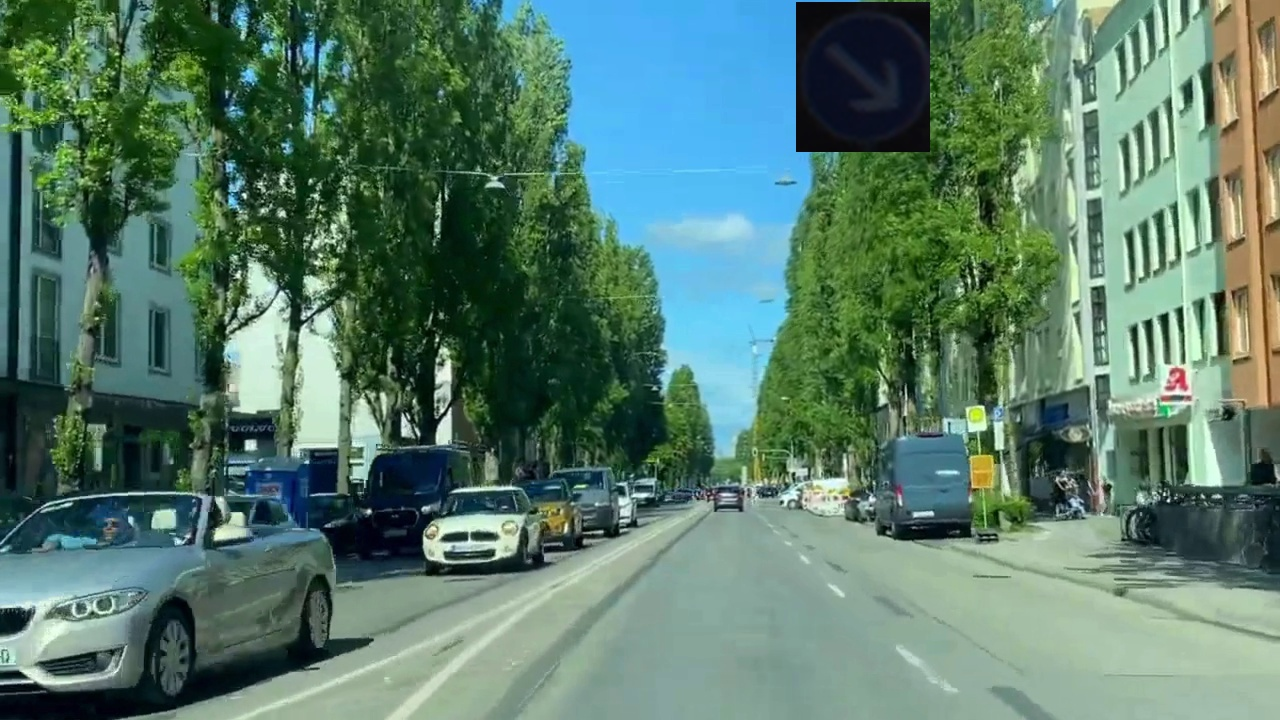Keep right: (796, 2, 930, 152)
